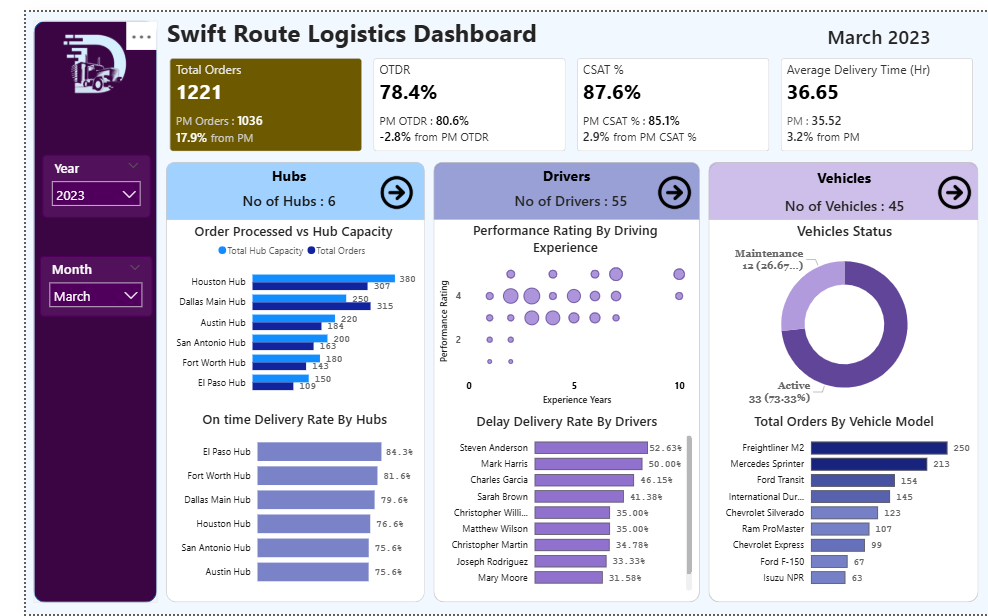

This screenshot's page, from the dashboard's own definition file:
{"tool":"powerbi","page":{"name":"Swift Route Logistics Dashboard","canvas":[1262,790],"ordinal":0},"visuals":[{"type":"shape","box":[9.9,11.3,162,763.4],"z":0},{"type":"textbox","box":[172.4,0,511.1,55],"z":1000},{"type":"slicer","fields":{"Values":["Calendar Date.Year"]},"box":[21.1,187.3,142.3,83.1],"z":2000},{"type":"cardVisual","fields":{"Data":["Measure Data.Total Orders","Measure Data.OTDR","Measure Data.CSAT %","Measure Data.Average Delivery Time (Hr)"]},"box":[183.1,54.9,1066.2,132.4],"z":3000},{"type":"slicer","fields":{"Values":["Calendar Date.Month Name"]},"box":[18.3,319.7,147.9,80.3],"z":4000},{"type":"shape","box":[183.1,197.2,339.4,577.5],"z":5000},{"type":"shape","box":[183.1,197.2,339.4,76.1],"z":6000},{"type":"textbox","box":[298.6,197.2,93,35.2],"z":7000},{"type":"cardVisual","fields":{"Data":["Measure Data.Total Hubs"]},"box":[252.1,226.8,185.9,38],"z":8000},{"type":"barChart","title":"On time Delivery Rate By Hubs","fields":{"Category":["Dim_Hubs.HubName"],"Y":["Measure Data.OTDR"]},"box":[191.5,521.1,321.1,243.7],"z":9000},{"type":"shape","box":[533.8,197.2,349.3,577.5],"z":10000},{"type":"shape","box":[895.8,197.2,354,577.5],"z":11000},{"type":"shape","box":[533.8,197.2,349.3,76.1],"z":12000},{"type":"shape","box":[895.8,197.2,353.5,76.1],"z":13000},{"type":"textbox","box":[662,197.2,93,35.2],"z":14000},{"type":"cardVisual","fields":{"Data":["Measure Data.Total Drivers"]},"box":[615.5,226.8,200,38],"z":15000},{"type":"scatterChart","title":"Performance Rating By  Driving Experience","fields":{"X":["Dim_Drivers.Experience Years"],"Y":["Dim_Drivers.Performance Rating"],"Size":["Sum(Dim_Drivers.Performance Rating)1"]},"box":[538,273.2,339.4,247.9],"z":16000},{"type":"barChart","title":"Delay Delivery Rate By Drivers","fields":{"Category":["Dim_Drivers.DriverName"],"Y":["Measure Data.Delay Delivery Rate"]},"box":[539.4,525.4,339.4,239.4],"z":17000},{"type":"textbox","box":[1008.5,200,129.6,35.2],"z":18000},{"type":"cardVisual","fields":{"Data":["Measure Data.Total Vehicle"]},"box":[960.6,232.4,226.8,38],"z":19000},{"type":"donutChart","title":"Vehicles Status","fields":{"Category":["Dim_Vehicles.Vehicle Status"],"Y":["CountNonNull(Dim_Vehicles.Vehicle Model)"]},"box":[897.2,273.2,353.5,252.1],"z":20000},{"type":"barChart","title":"Total Orders By Vehicle Model","fields":{"Category":["Dim_Vehicles.Vehicle Model"],"Y":["Measure Data.Total Orders"]},"box":[901.4,525.4,342.3,239.4],"z":21000},{"type":"image","box":[15.5,21.1,152.1,100],"z":22000},{"type":"cardVisual","fields":{"Data":["Measure Data.Year-Month Title"]},"box":[995.8,7,247.9,47.9],"z":23000},{"type":"image","box":[825.4,215.5,52.1,43.7],"z":24000},{"type":"clusteredBarChart","title":"Order Processed vs Hub Capacity","fields":{"Category":["Dim_Hubs.HubName"],"Y":["Measure Data.Total Hub Capacity","Measure Data.Total Orders"]},"box":[185.9,276.1,331,236.6],"z":25000},{"type":"image","box":[456.3,215.5,60.6,43.7],"z":26000},{"type":"image","box":[1191.5,215.5,52.1,43.7],"z":27000}]}

Visuals, with their boxes in screenshot pixels (x1, y1, x2, y2), scaled from the page's 1262x790 canvas onto the 988x616 screenshot:
shape: <box>8,9,135,604</box>
textbox: <box>135,0,535,43</box>
slicer - Calendar Date.Year: <box>17,146,128,211</box>
cardVisual - Measure Data.Total Orders x Measure Data.OTDR: <box>143,43,978,146</box>
slicer - Calendar Date.Month Name: <box>14,249,130,312</box>
shape: <box>143,154,409,604</box>
shape: <box>143,154,409,213</box>
textbox: <box>234,154,307,181</box>
cardVisual - Measure Data.Total Hubs: <box>197,177,343,206</box>
"On time Delivery Rate By Hubs" barChart: <box>150,406,401,596</box>
shape: <box>418,154,691,604</box>
shape: <box>701,154,978,604</box>
shape: <box>418,154,691,213</box>
shape: <box>701,154,978,213</box>
textbox: <box>518,154,591,181</box>
cardVisual - Measure Data.Total Drivers: <box>482,177,638,206</box>
"Performance Rating By  Driving Experience" scatterChart: <box>421,213,687,406</box>
"Delay Delivery Rate By Drivers" barChart: <box>422,410,688,596</box>
textbox: <box>790,156,891,183</box>
cardVisual - Measure Data.Total Vehicle: <box>752,181,930,211</box>
"Vehicles Status" donutChart: <box>702,213,979,410</box>
"Total Orders By Vehicle Model" barChart: <box>706,410,974,596</box>
image: <box>12,16,131,94</box>
cardVisual - Measure Data.Year-Month Title: <box>780,5,974,43</box>
image: <box>646,168,687,202</box>
"Order Processed vs Hub Capacity" clusteredBarChart: <box>146,215,405,400</box>
image: <box>357,168,405,202</box>
image: <box>933,168,974,202</box>
